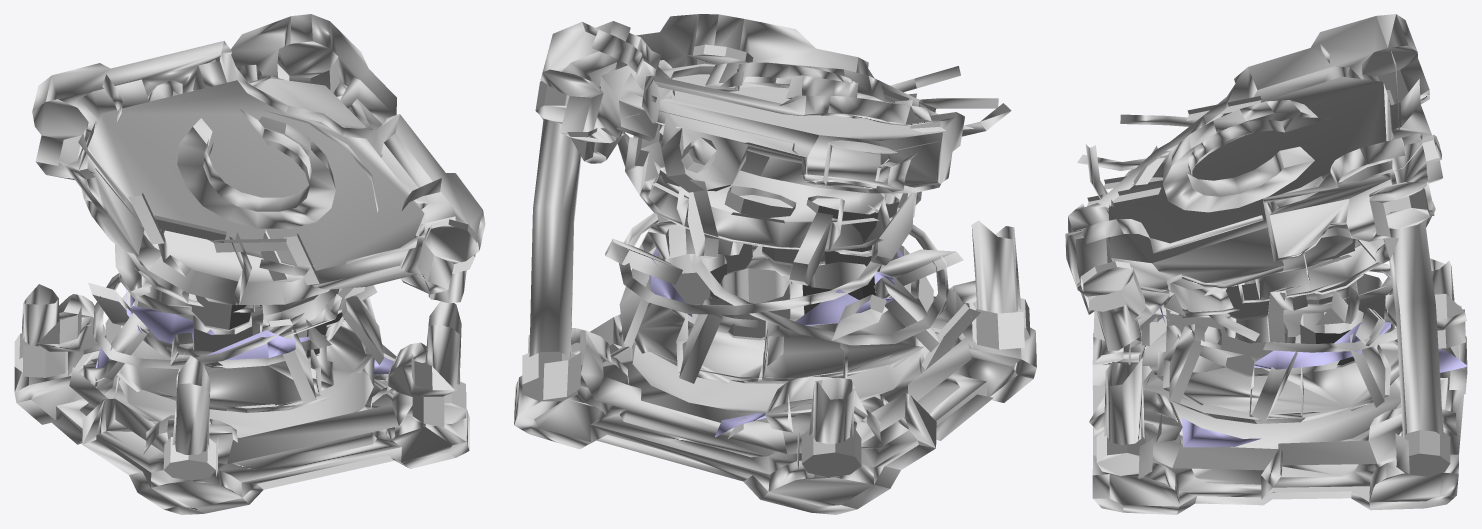
The model's file is canister_time_1_005x005x005_a_100_debri.glb.
3 views of the same model, side by side, from view 1: azimuth 30°, elevation 25°; view 2: azimuth 150°, elevation 25°; view 3: azimuth 270°, elevation 25° (orthographic). The views are drawn at different scales.
Bounding box in the file's own units: 0.5094 × 0.5328 × 0.5509.
